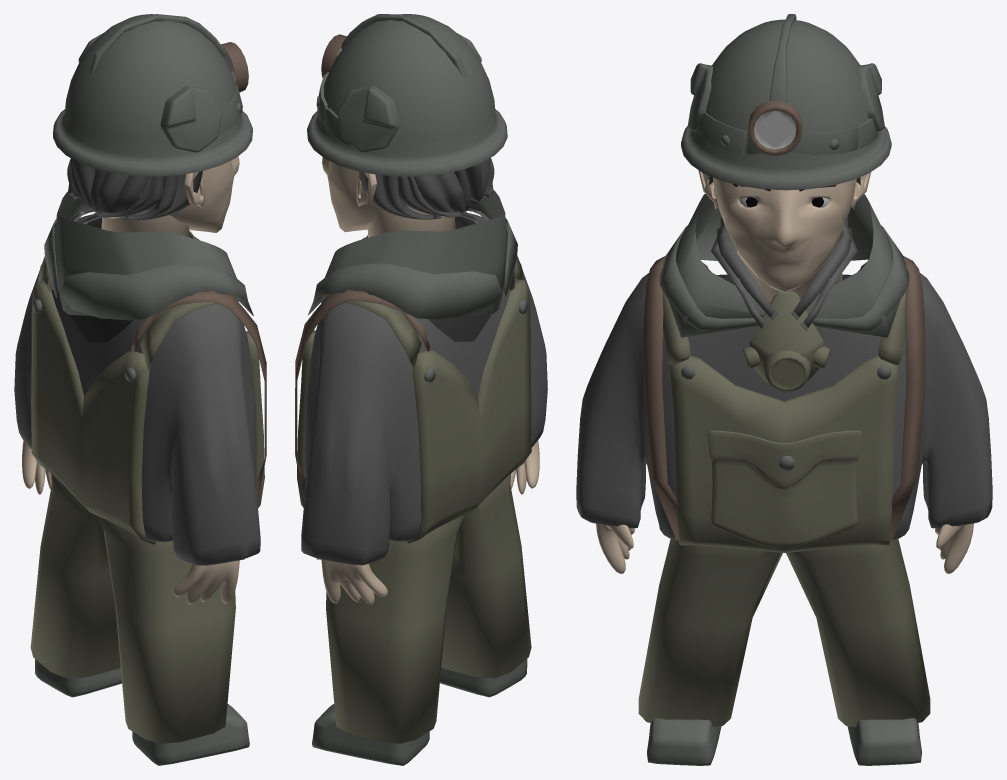
File: character1.fbx
The picture shows the model from 3 angles, left to right: view 1: azimuth 30°, elevation 25°; view 2: azimuth 150°, elevation 25°; view 3: azimuth 270°, elevation 25°; orthographic projection. The views are drawn at different scales.
Visible parts, largest first — view 1: Cube.012, Cube.010, Sphere.002, Cube.009, Plane.006, Plane.010, Cube.011, Circle.008, Cube.022, Object_low, Cube.016, BezierCurve.010 (+11 smaller); view 2: Cube.012, Cube.010, Sphere.002, Cube.009, Plane.006, Plane.010, Cube.011, Circle.008, Cube.022, Object_low, Cube.016, BezierCurve.010 (+11 smaller); view 3: Cube.012, Cube.010, Cube.009, Sphere.002, Cube.015, Plane.006, Object_low, Cube.016, Cube.011, Plane.010, Sphere.004, Cube.025 (+8 smaller).
Boxes of the visible parts, x1,y1,x2,y2 form: Cube.012: (30, 474, 235, 743); Cube.010: (14, 214, 260, 565); Sphere.002: (53, 14, 252, 176); Cube.009: (31, 280, 264, 544); Plane.006: (54, 191, 253, 315); Plane.010: (44, 218, 247, 320); Cube.011: (35, 659, 249, 765); Circle.008: (78, 33, 222, 152); Cube.022: (22, 440, 244, 604); Object_low: (106, 156, 239, 232); Cube.016: (47, 211, 266, 501); BezierCurve.010: (67, 159, 148, 216); Cube.012: (326, 474, 531, 743); Cube.010: (301, 213, 547, 565); Sphere.002: (307, 14, 507, 176); Cube.009: (297, 279, 531, 543); Plane.006: (308, 190, 507, 315); Plane.010: (313, 217, 517, 319); Cube.011: (312, 659, 527, 765); Circle.008: (337, 33, 481, 152); Cube.022: (316, 440, 539, 604); Object_low: (322, 157, 454, 232); Cube.016: (295, 210, 514, 500); BezierCurve.010: (413, 158, 494, 216); Cube.012: (638, 539, 930, 726); Cube.010: (576, 270, 992, 540); Cube.009: (670, 355, 898, 552); Sphere.002: (681, 19, 891, 190); Cube.015: (707, 430, 861, 547); Plane.006: (668, 194, 900, 337); Object_low: (714, 178, 855, 292); Cube.016: (643, 256, 925, 540); Cube.011: (647, 718, 921, 765); Plane.010: (659, 225, 909, 330); Sphere.004: (695, 112, 877, 154); Cube.025: (749, 291, 823, 382).
Size of the model in its own units: 50.87 by 185 by 95.96.
